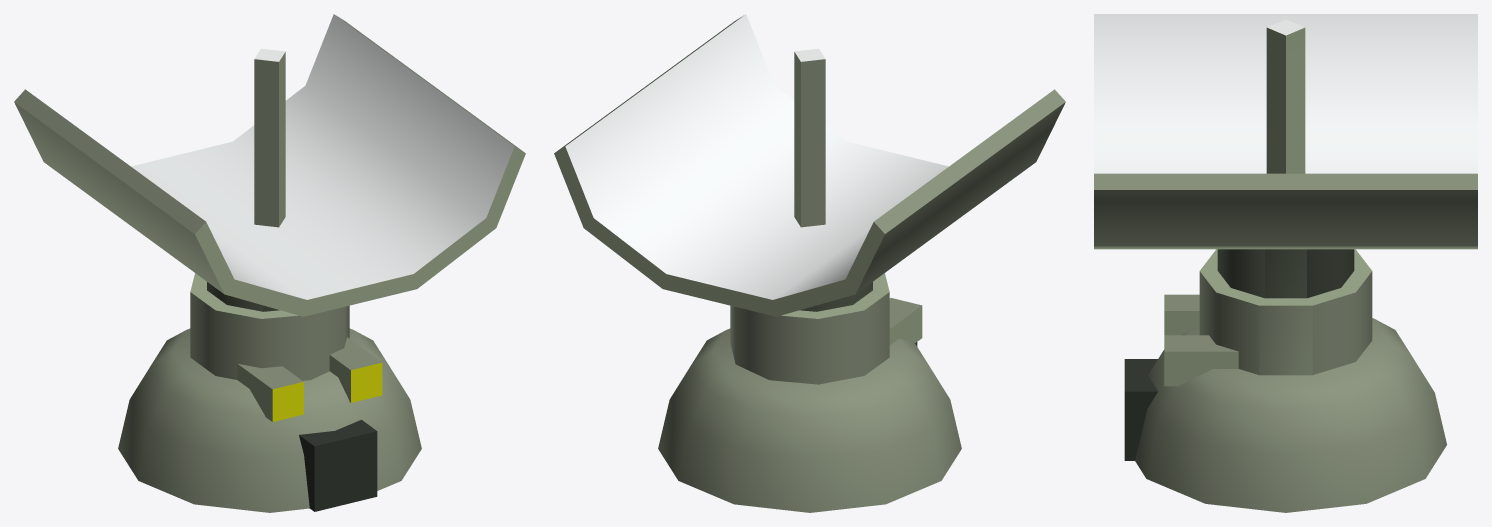
Rendered from Lab.JadeSun.Snow.glb.
3 renders of one model, left to right at view 1: azimuth 30°, elevation 25°; view 2: azimuth 150°, elevation 25°; view 3: azimuth 270°, elevation 25°, orthographic. The views are drawn at different scales.
Parts seen in each view (by area): view 1: Lab.JadeSun.Snow; view 2: Lab.JadeSun.Snow; view 3: Lab.JadeSun.Snow.
Boxes of the visible parts, x1,y1,x2,y2 form: Lab.JadeSun.Snow: (14, 14, 525, 512); Lab.JadeSun.Snow: (554, 14, 1065, 512); Lab.JadeSun.Snow: (1094, 14, 1477, 512).
Size of the model in its own units: 2.11 by 2.41 by 2.
2 materials, 1 textured.
